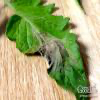Tomato leaf late blight: (6, 2, 90, 98)
